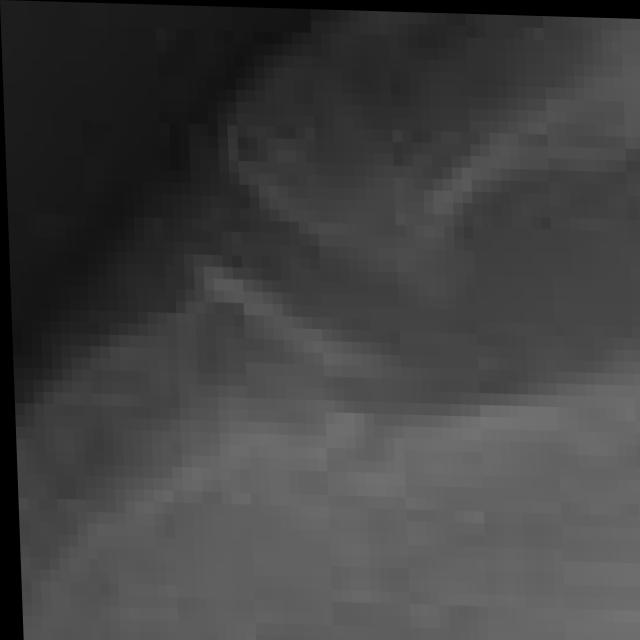fracture: (4, 19, 640, 640)
